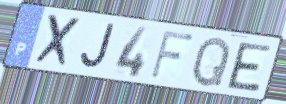4: (113, 24, 149, 80)
E: (226, 41, 274, 94)
F: (148, 28, 197, 81)
J: (78, 22, 117, 72)
Q: (190, 35, 233, 89)
X: (32, 13, 83, 71)
